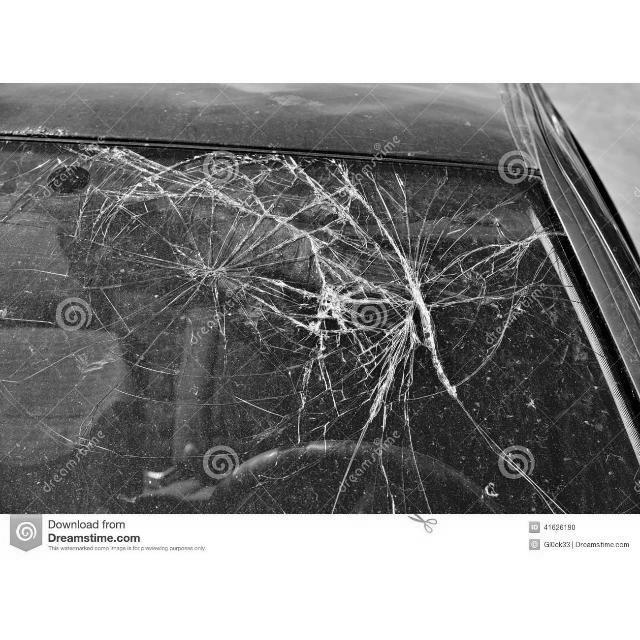Front-windscreen-damage: (1, 123, 612, 504)
